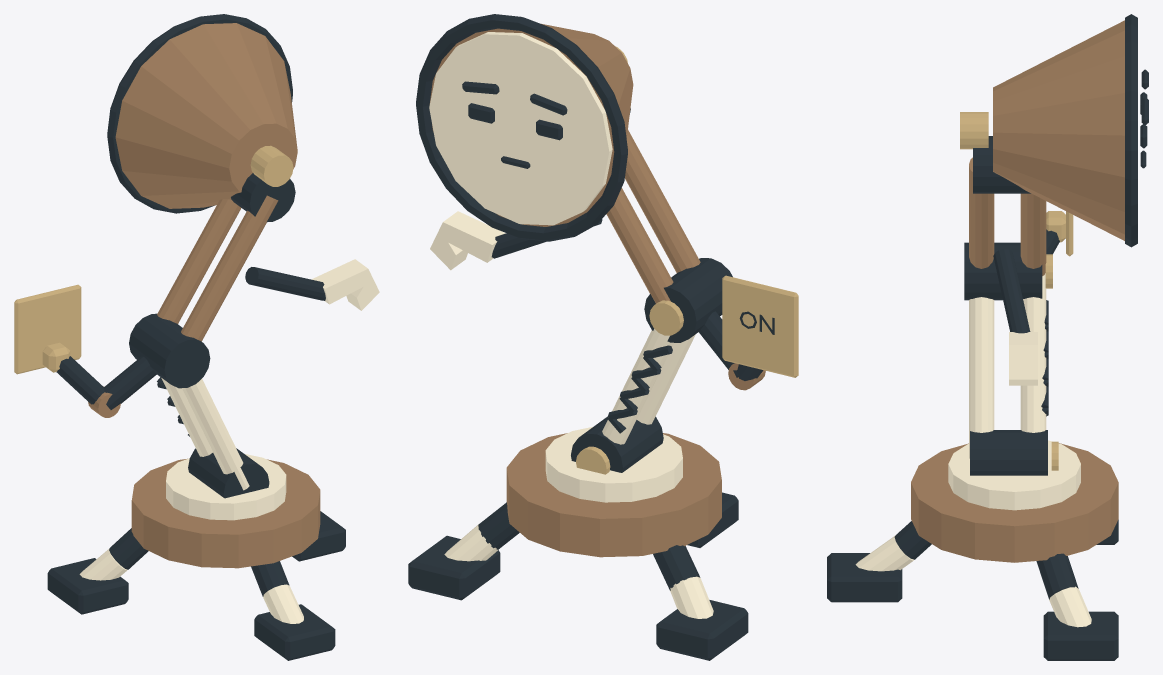
3 renders of one model, left to right at view 1: azimuth 30°, elevation 25°; view 2: azimuth 150°, elevation 25°; view 3: azimuth 270°, elevation 25°, orthographic. The views are drawn at different scales.
Visible parts, largest first — view 1: lamp_shade, lamp_base, calibration_card, base_top, elbow_boom_pin, upper_rail_0, shade_rim, upper_rail_1, B_rubber_foot, L_rubber_foot, lower_rail_0, base_boom_pin (+13 smaller); view 2: light_face, lamp_base, shade_rim, calibration_card, base_top, L_rubber_foot, lamp_shade, upper_rail_0, R_rubber_foot, elbow_boom_pin, upper_rail_1, R_pincer (+12 smaller); view 3: lamp_shade, lamp_base, base_top, lower_rail_0, base_boom_pin, R_rubber_foot, B_rubber_foot, shade_rim, elbow_boom_pin, lower_rail_1, upper_rail_0, upper_rail_1 (+9 smaller).
Boxes of the visible parts, left/top/right/bottom form: lamp_shade: left=115, top=23, right=297, bottom=208; lamp_base: left=131, top=458, right=320, bottom=568; calibration_card: left=14, top=284, right=81, bottom=374; base_top: left=166, top=454, right=286, bottom=520; elbow_boom_pin: left=129, top=313, right=210, bottom=388; upper_rail_0: left=181, top=195, right=278, bottom=341; shade_rim: left=107, top=14, right=292, bottom=213; upper_rail_1: left=157, top=199, right=241, bottom=323; B_rubber_foot: left=254, top=604, right=335, bottom=660; L_rubber_foot: left=47, top=558, right=128, bottom=614; lower_rail_0: left=182, top=379, right=249, bottom=490; base_boom_pin: left=188, top=448, right=269, bottom=498; light_face: left=429, top=32, right=612, bottom=225; lamp_base: left=506, top=433, right=721, bottom=557; shade_rim: left=416, top=14, right=627, bottom=241; calibration_card: left=722, top=275, right=798, bottom=377; base_top: left=545, top=427, right=682, bottom=502; L_rubber_foot: left=656, top=600, right=748, bottom=660; lamp_shade: left=429, top=23, right=633, bottom=226; upper_rail_0: left=625, top=130, right=700, bottom=272; R_rubber_foot: left=408, top=535, right=500, bottom=600; elbow_boom_pin: left=644, top=258, right=732, bottom=342; upper_rail_1: left=606, top=188, right=673, bottom=303; R_pincer: left=430, top=211, right=505, bottom=270; lamp_shade: left=993, top=20, right=1124, bottom=240; lamp_base: left=911, top=443, right=1118, bottom=562; base_top: left=948, top=440, right=1080, bottom=510; lower_rail_0: left=969, top=297, right=994, bottom=458; base_boom_pin: left=970, top=430, right=1047, bottom=475; R_rubber_foot: left=1043, top=611, right=1118, bottom=660; B_rubber_foot: left=827, top=553, right=902, bottom=602; shade_rim: left=1125, top=14, right=1137, bottom=247; elbow_boom_pin: left=964, top=242, right=1042, bottom=300; lower_rail_1: left=1020, top=273, right=1046, bottom=432; upper_rail_0: left=969, top=157, right=994, bottom=268; upper_rail_1: left=1020, top=193, right=1046, bottom=275.
Size of the model in its own units: 1.48 by 2.22 by 1.11.
